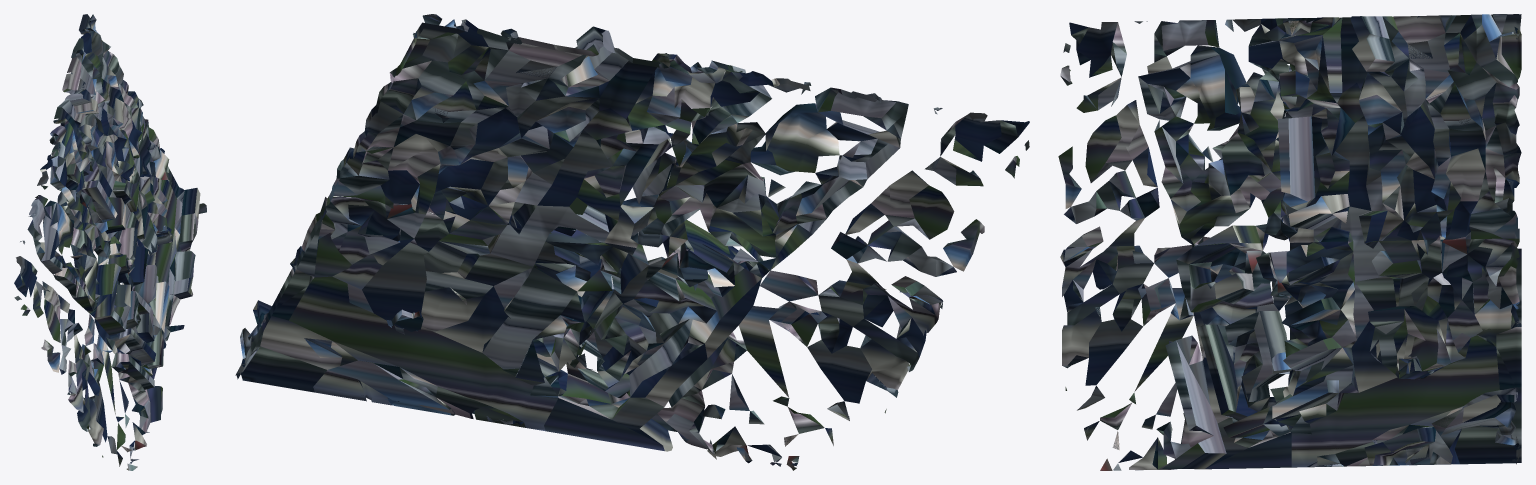
3 renders of one model, left to right at view 1: azimuth 30°, elevation 25°; view 2: azimuth 150°, elevation 25°; view 3: azimuth 270°, elevation 25°, orthographic. The views are drawn at different scales.
Visible parts, largest first — view 1: node_3043627270436152_mesh0, node_3043627270436152_mesh1; view 2: node_3043627270436152_mesh0, node_3043627270436152_mesh1; view 3: node_3043627270436152_mesh0, node_3043627270436152_mesh1.
Part boxes in pixels (box(x1,y1,x2,y2)): node_3043627270436152_mesh0: box(14, 14, 206, 470); node_3043627270436152_mesh1: box(26, 21, 192, 470); node_3043627270436152_mesh0: box(235, 14, 1029, 470); node_3043627270436152_mesh1: box(248, 18, 1016, 468); node_3043627270436152_mesh0: box(1058, 14, 1521, 470); node_3043627270436152_mesh1: box(1060, 14, 1515, 470).
Bounding box in the file's own units: 576 × 566 × 450.
Materials: 2 (2 with a texture image).
